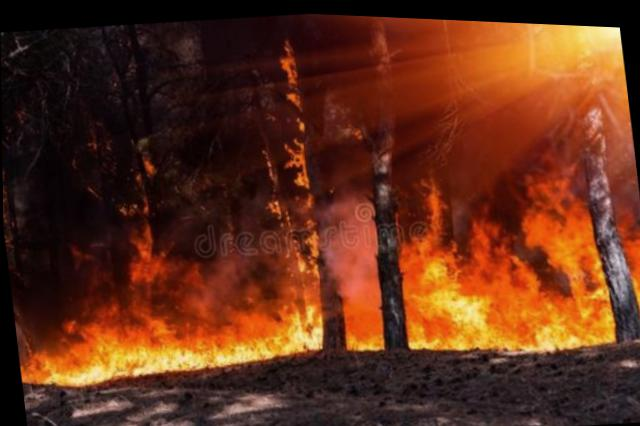fire: (13, 173, 639, 405), (270, 32, 326, 217)
